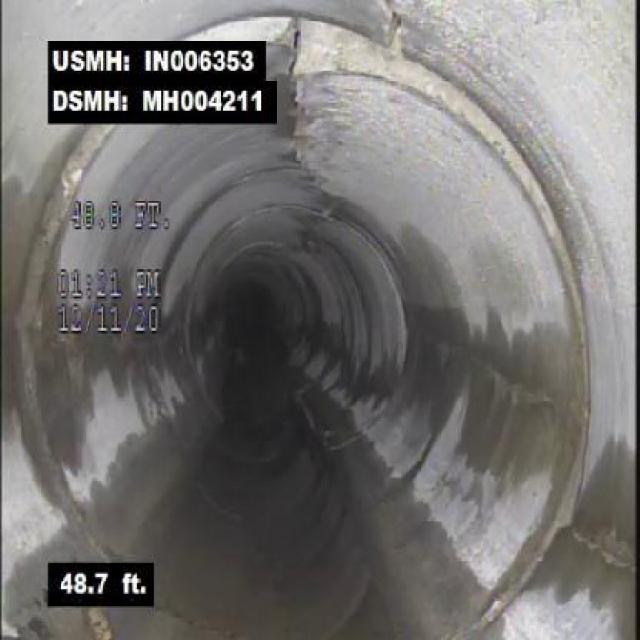Buckling: (274, 28, 334, 208), (375, 3, 414, 57)
Crack: (575, 525, 631, 572)
Joint offset: (11, 171, 75, 495)
